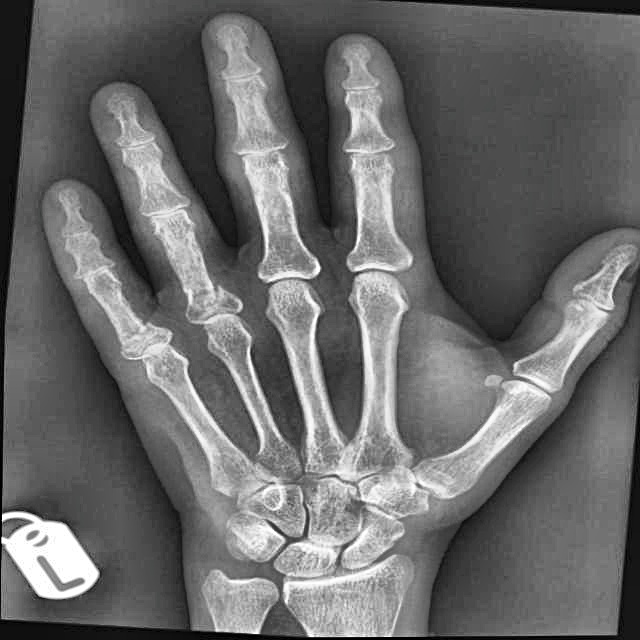Healthy: (31, 13, 631, 600)
